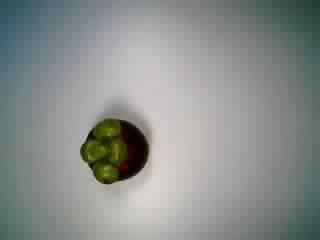mangosteen: (77, 116, 152, 187)
